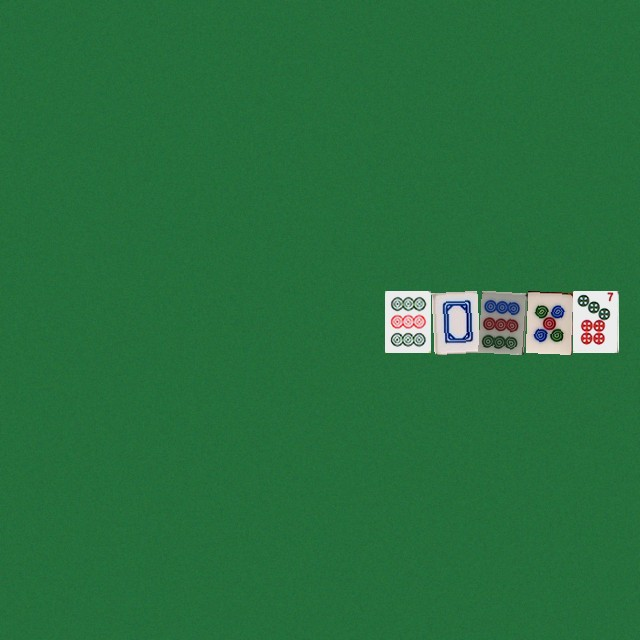tile: (384, 290, 430, 352), (431, 290, 477, 352), (478, 290, 524, 352), (525, 290, 571, 352), (572, 290, 618, 352)
